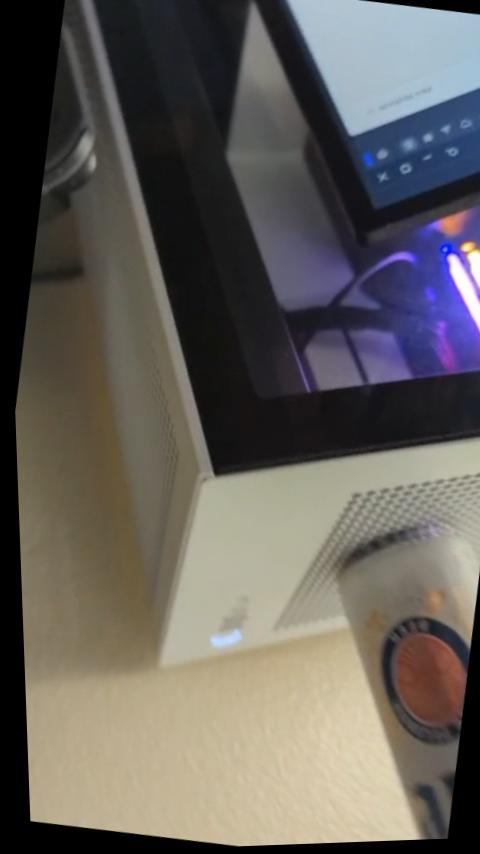cardboard: (18, 0, 479, 667)
metal: (338, 534, 479, 836)
